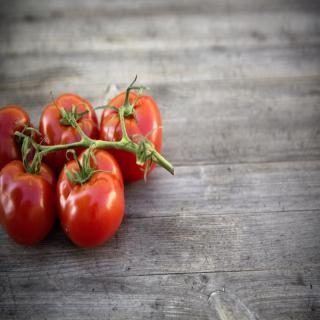tomato: (99, 74, 162, 184), (56, 146, 125, 246), (0, 156, 55, 245), (39, 89, 100, 167), (0, 104, 38, 168)
